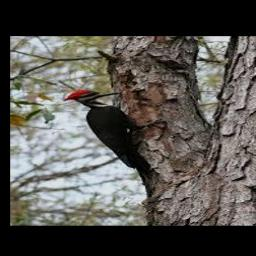Woodpecker: (63, 90, 167, 197)
